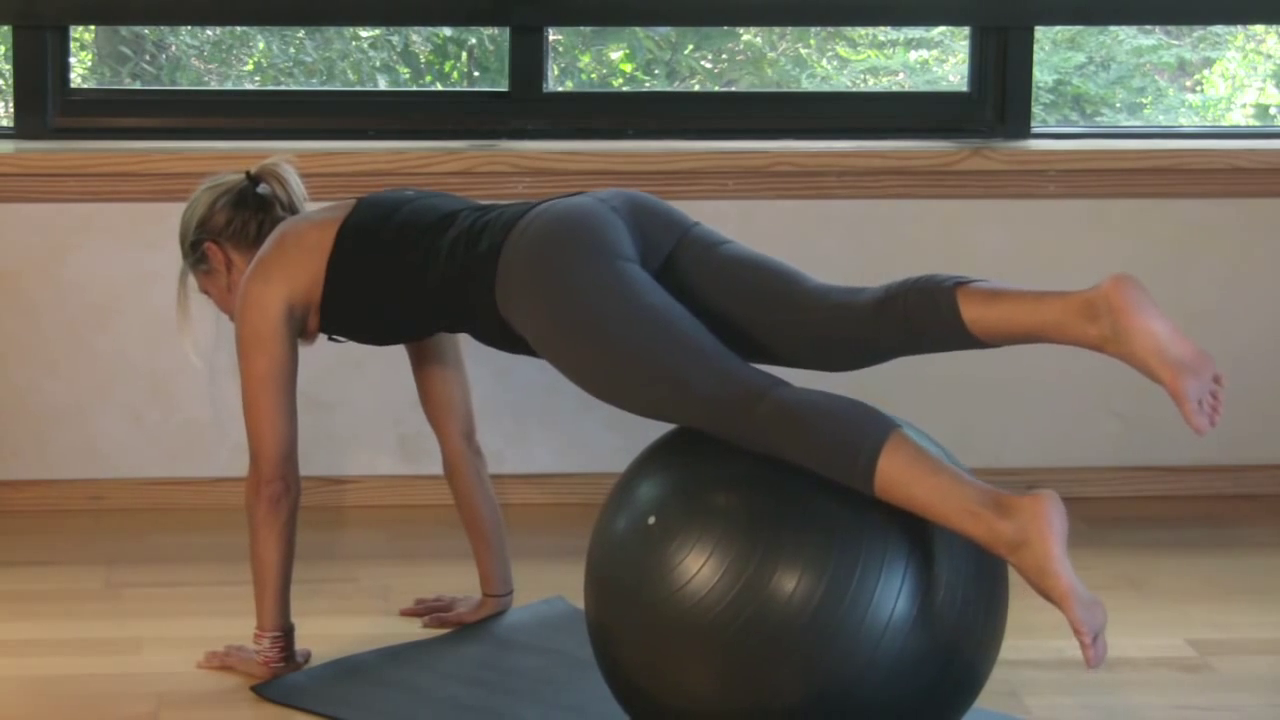yogaball: (580, 405, 1021, 720)
